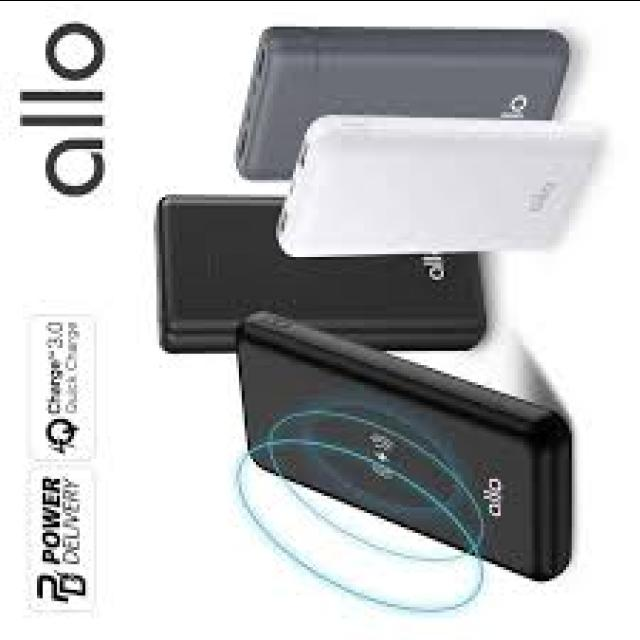power_bank: (233, 314, 575, 584), (153, 185, 497, 354), (229, 26, 579, 180), (272, 115, 612, 256)
